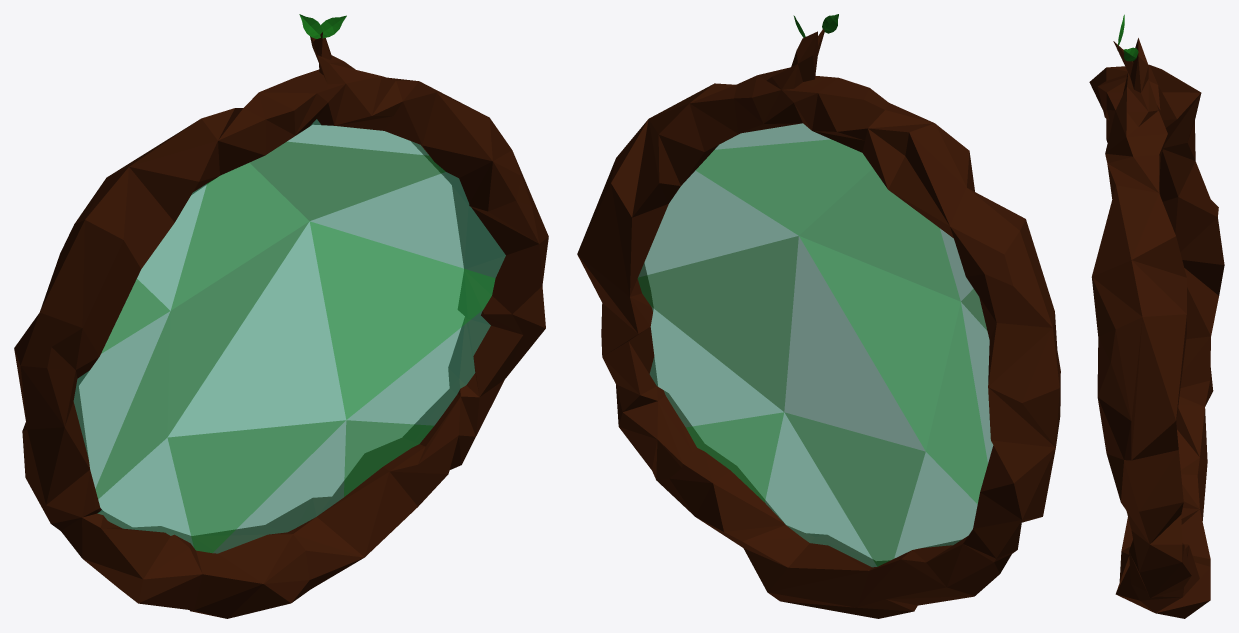
Rendered from Portal-twiggy.dae.
3 views of the same model, side by side, from view 1: azimuth 30°, elevation 25°; view 2: azimuth 150°, elevation 25°; view 3: azimuth 270°, elevation 25° (orthographic). The views are drawn at different scales.
Parts seen in each view (by area): view 1: group_0, SketchUp (×5), group_3 (×8); view 2: group_0, SketchUp (×4), group_3 (×8); view 3: group_0.
Boxes of the visible parts, box(x1,y1,x2,y2) form: group_0: box(14, 32, 548, 618); SketchUp (×5): box(95, 141, 495, 553); group_3 (×8): box(73, 119, 505, 553); group_0: box(577, 29, 1060, 618); SketchUp (×4): box(637, 139, 987, 566); group_3 (×8): box(638, 123, 993, 567); group_0: box(1089, 38, 1224, 618).
Size of the model in its own units: 74.3 by 17.29 by 84.37.
